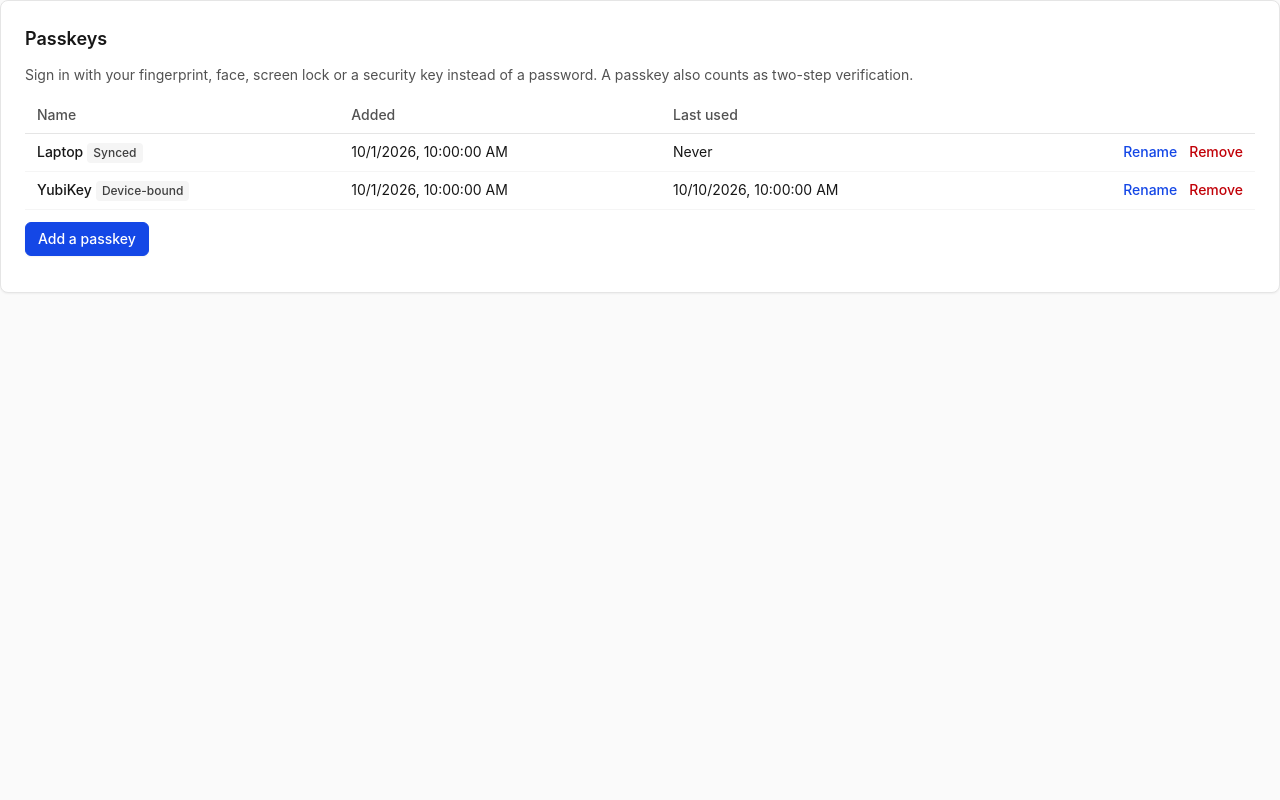
Test: PasskeysSection › removes after re-auth and explains the last sign-in method
The image size is (1280, 800).
Click the button "Remove" in the row of "Laptop" at (1216, 152), box [1189, 142, 1243, 162]
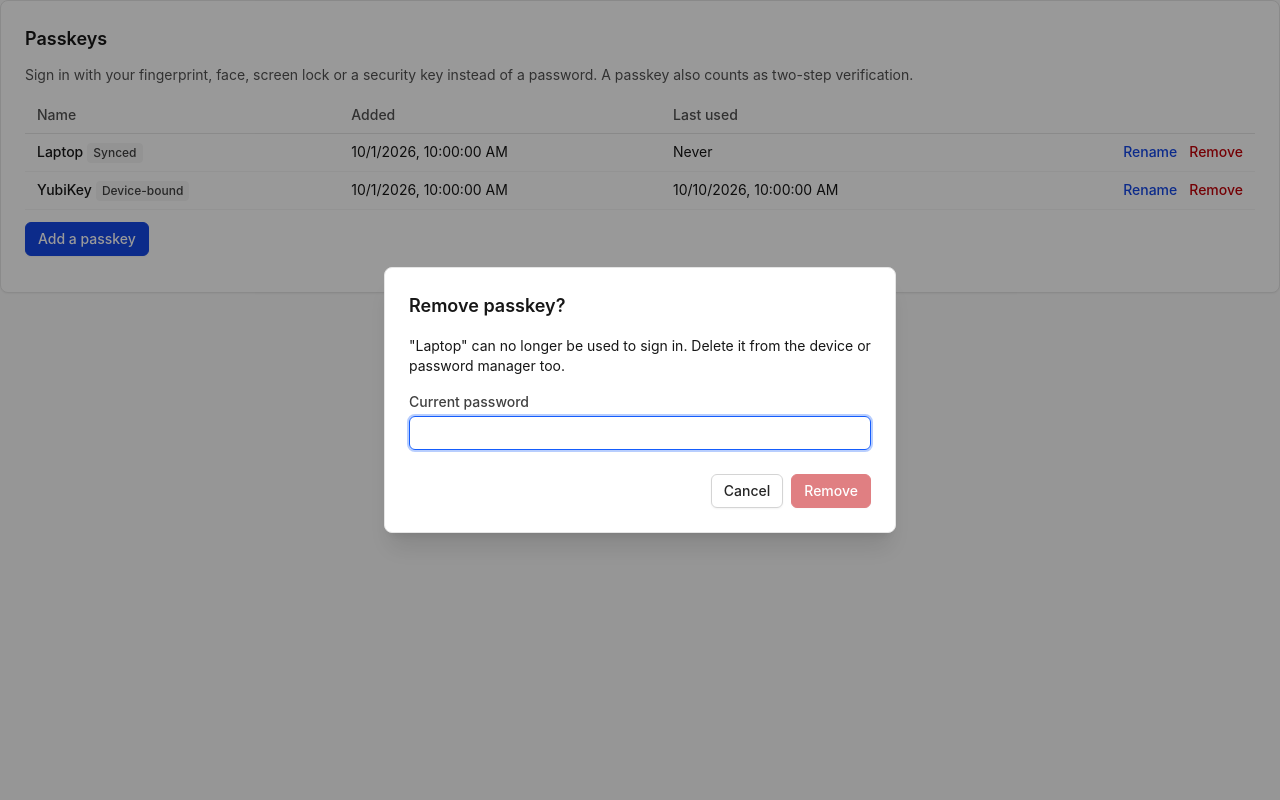
Type "pw" into the password field labelled "Current password" at (640, 433), box [409, 416, 871, 450]
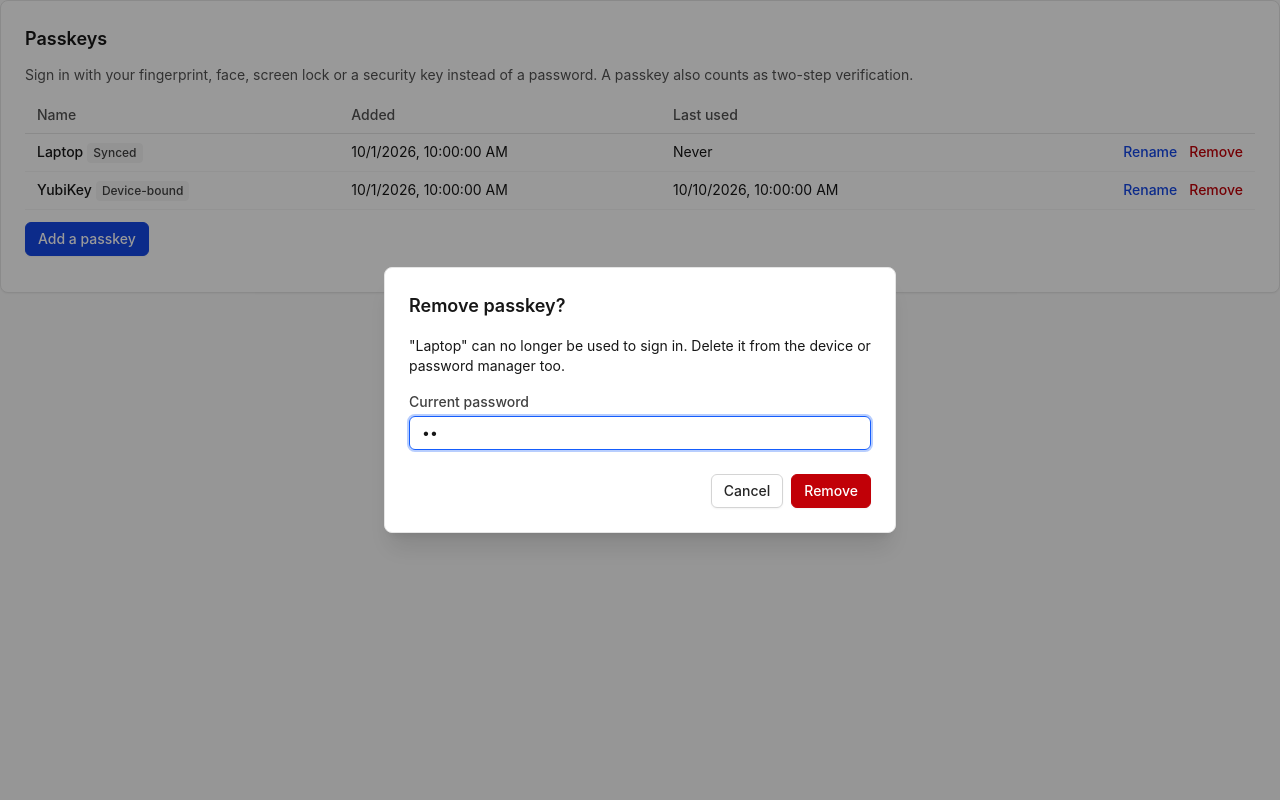
Submit the form with id "reauth-prompt", box [409, 336, 871, 450]
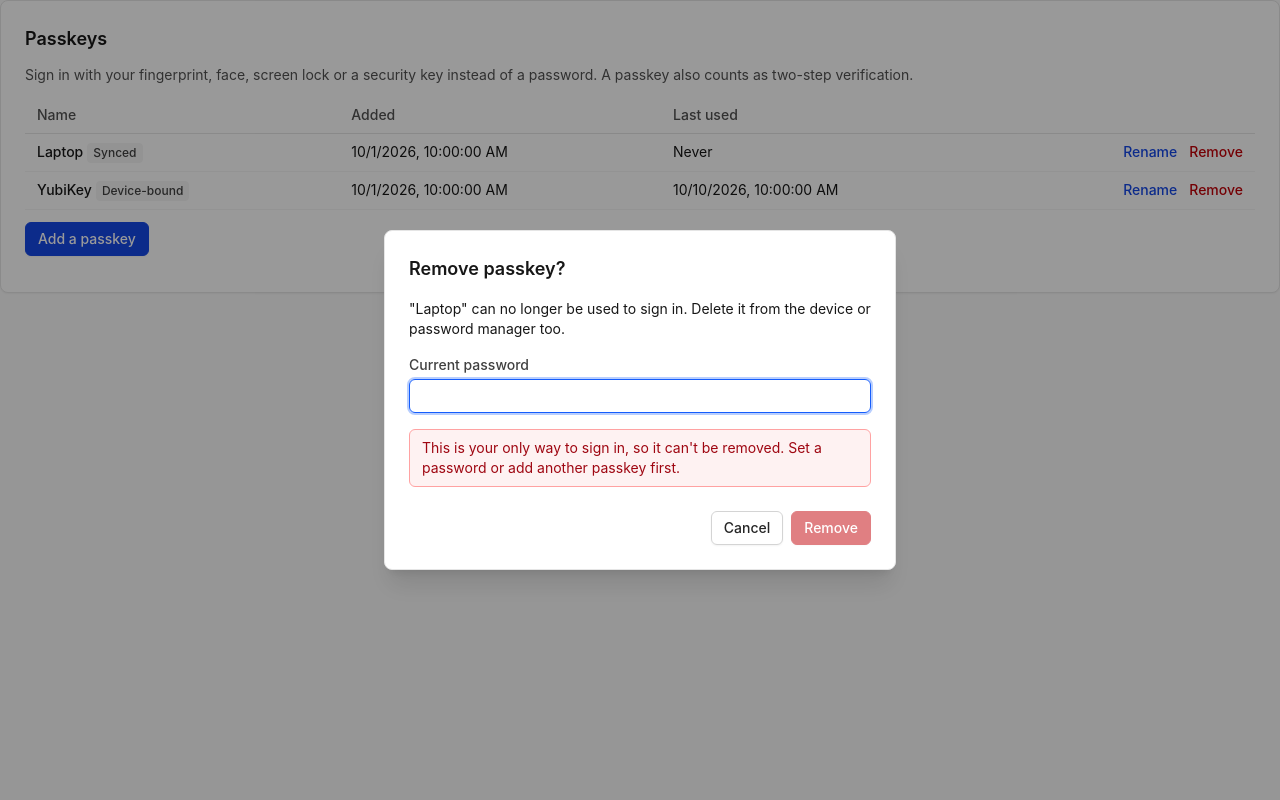
expect the message shows "only way to sign in": met, box [422, 439, 822, 476]
Type "pw" into the password field labelled "Current password" at (640, 396), box [409, 379, 871, 413]
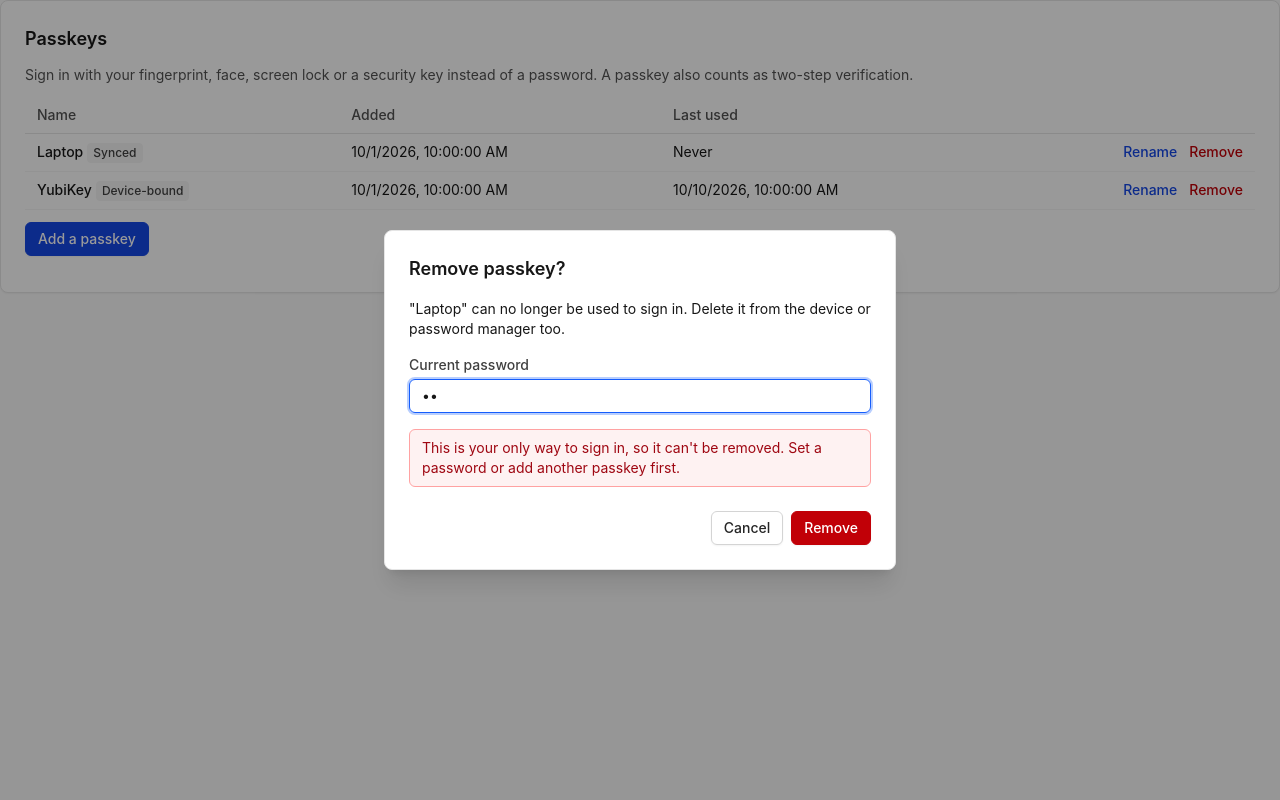
Submit the form with id "reauth-prompt", box [409, 299, 871, 487]
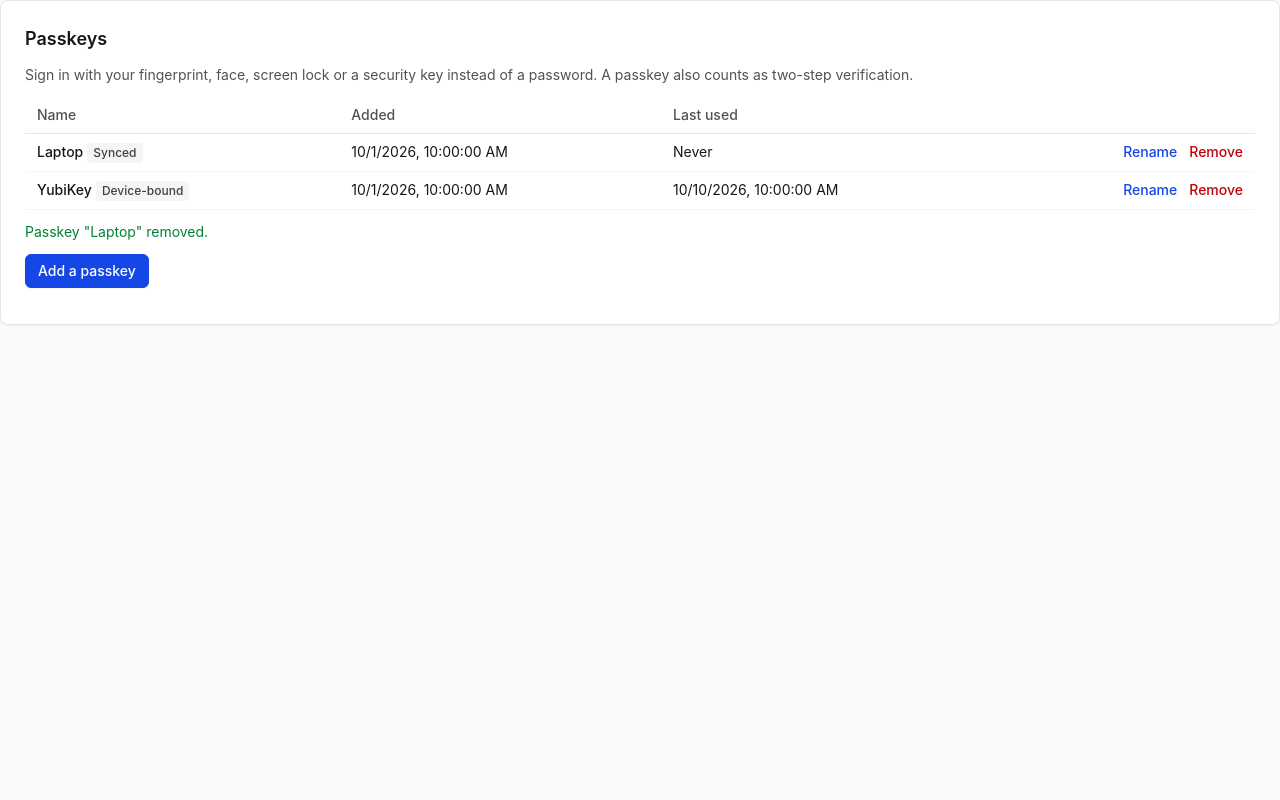
expect the message "Passkey \"Laptop\" removed." reads "Passkey \"Laptop\" removed.": met, box [25, 223, 208, 240]
